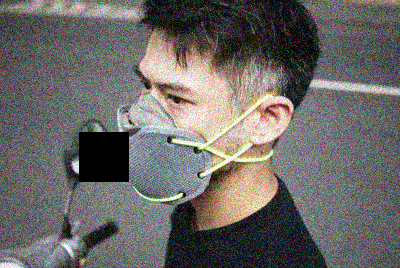with_mask: (115, 64, 248, 207)
